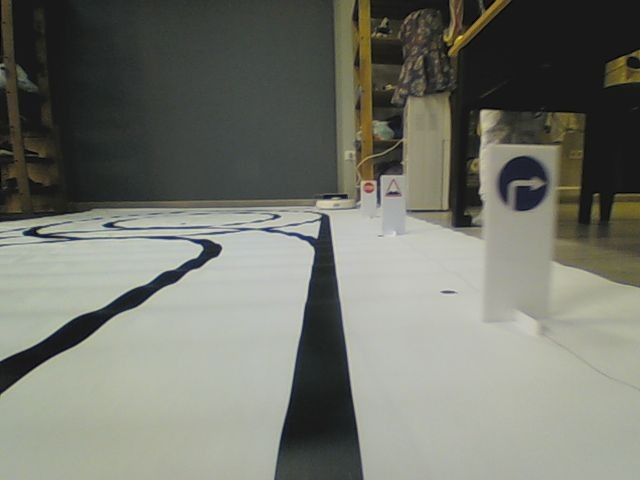Nerov: (384, 178, 402, 197)
Right: (495, 154, 550, 213)
